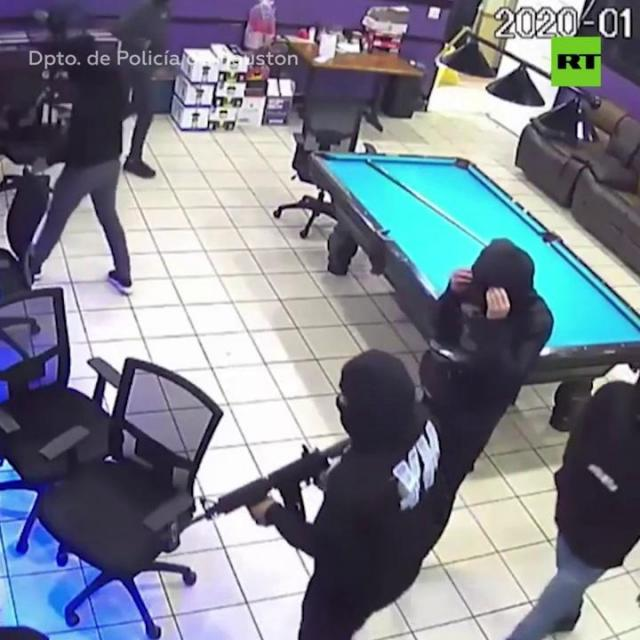weapon: (160, 431, 354, 554)
